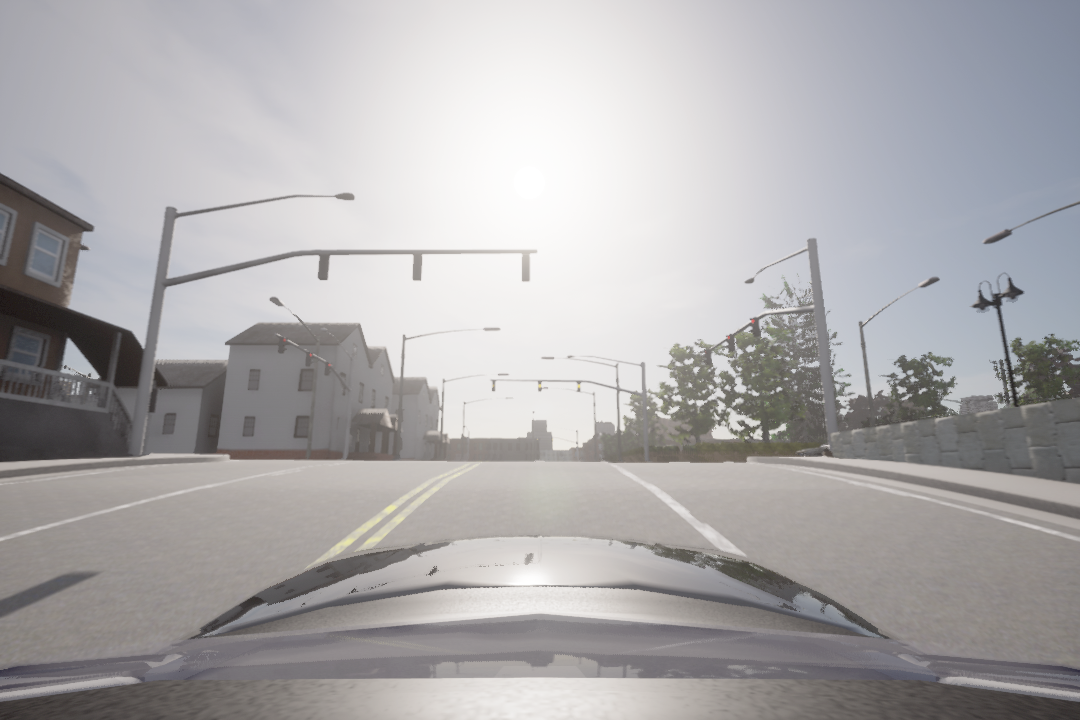TrafficLight: (747, 314, 765, 340), (725, 333, 737, 354), (322, 359, 334, 377), (304, 350, 315, 367), (278, 335, 286, 356), (576, 380, 583, 392), (538, 379, 543, 393)
